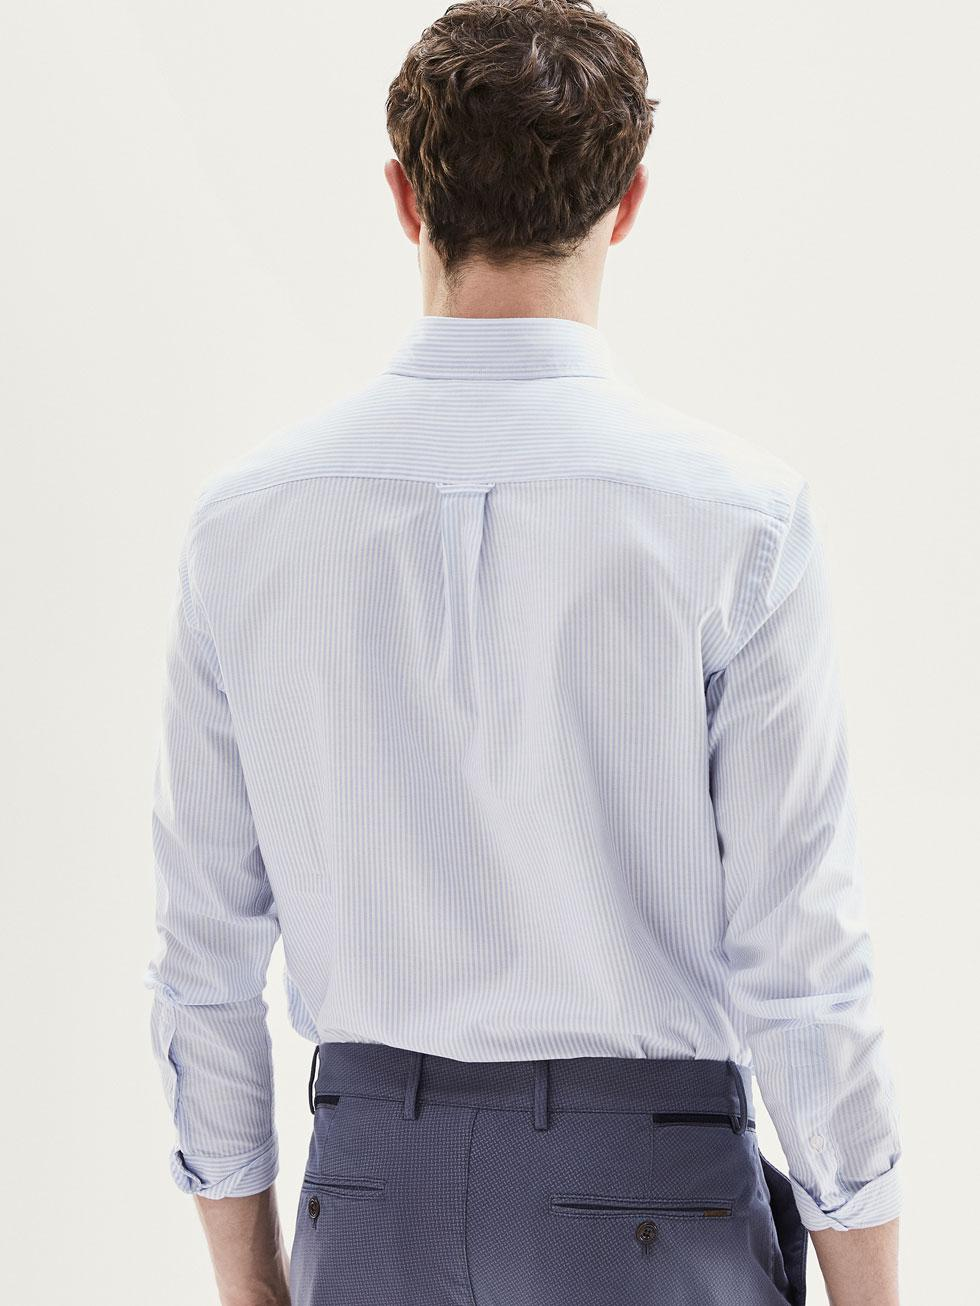teeshirt: (113, 311, 925, 1235)
